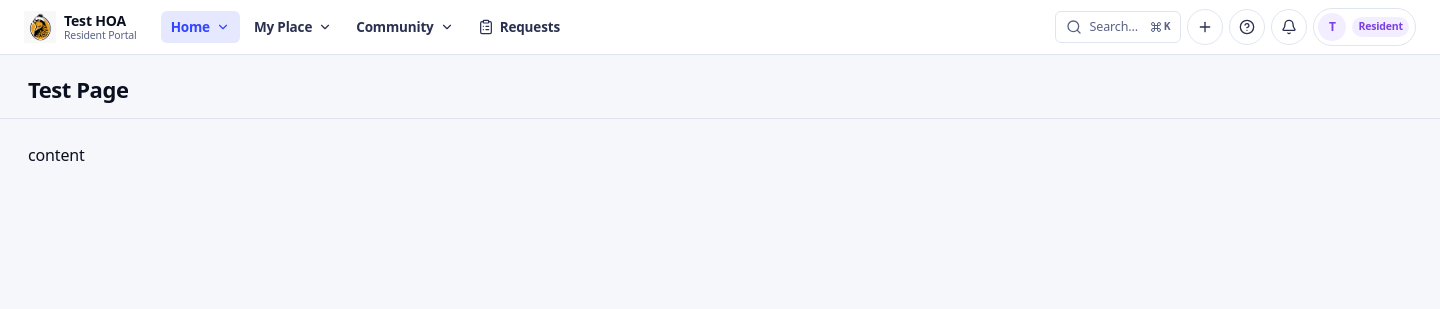
it: Layout top-nav role gating › resident owner sees the same sections as tenants and gets My Account in My Place
This screenshot has width=1440, height=309.
What coordinates should you click on to do the following:
click the button with test id "nav-section-my-place"
I would click on:
 (293, 27)
Its box is [244,11,342,43].
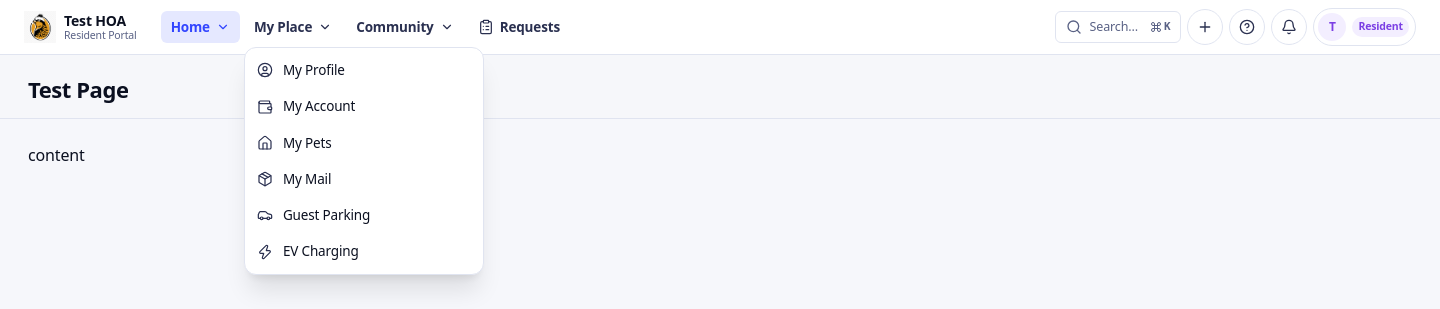
Check: the text "My Account" is shown, box [283,96,355,117]
